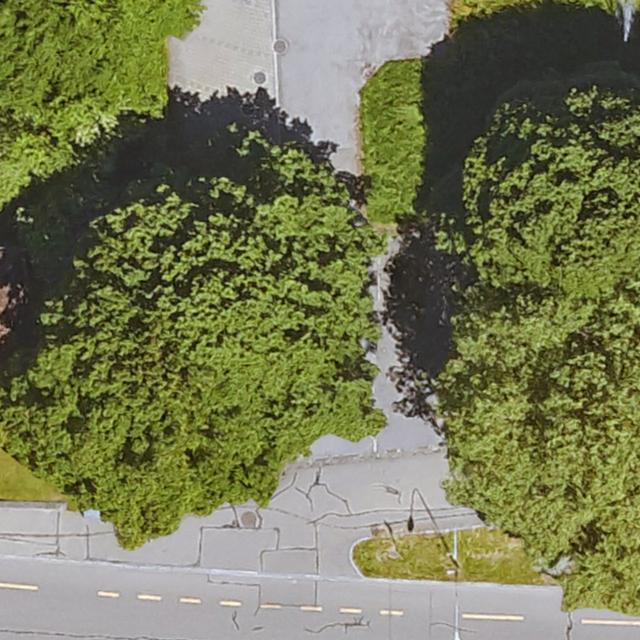tree: (57, 142, 386, 439), (426, 295, 640, 615), (0, 336, 285, 552), (455, 89, 640, 299), (0, 1, 120, 207)
